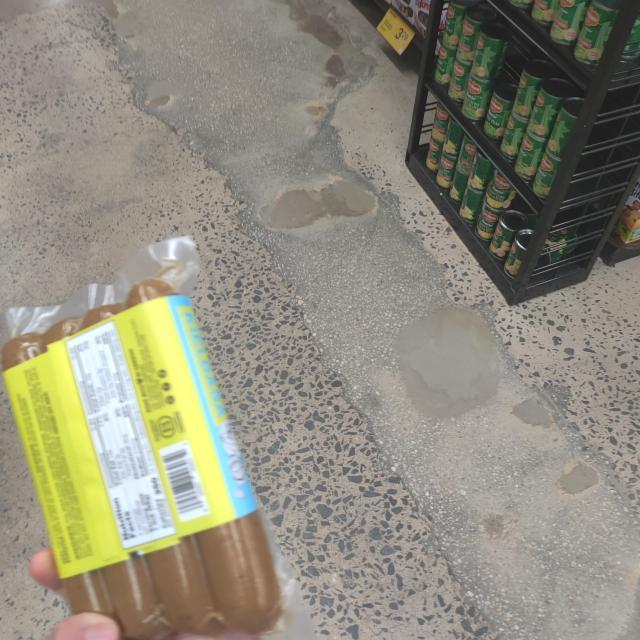Meat: (0, 276, 307, 640)
